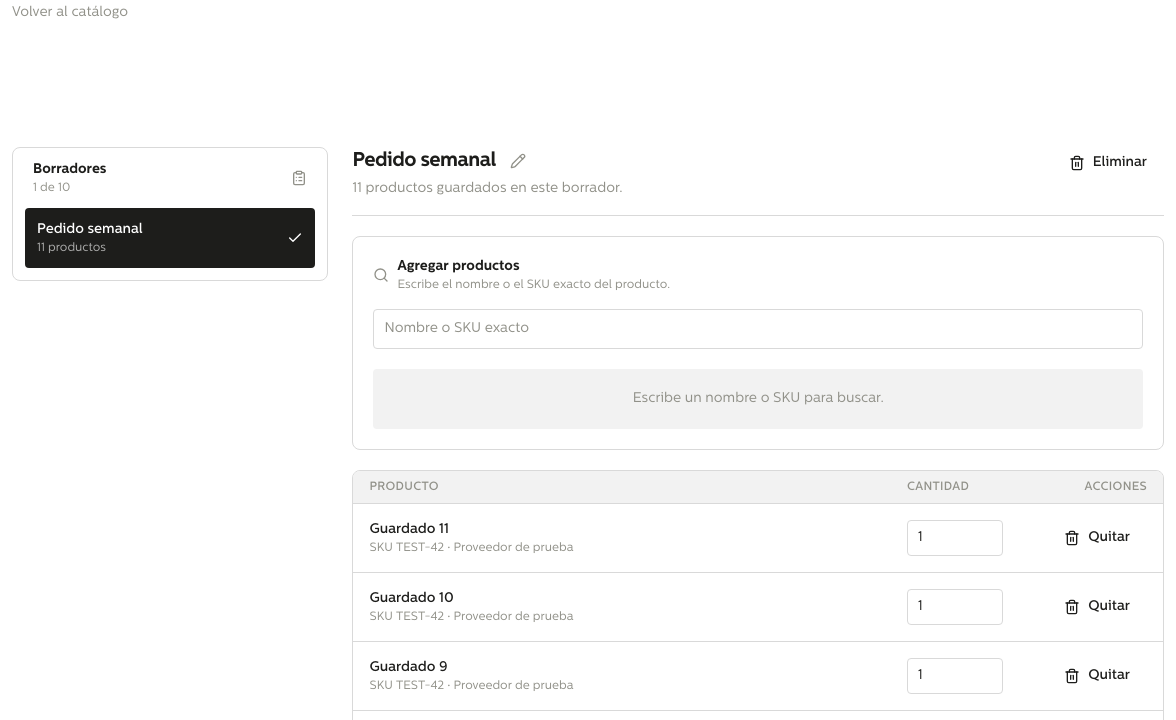
Test: editor de pedidos › conserva el texto si falla el guardado
Later steps or results of the test are not shown.
Type "001-A" into the field with placeholder "Nombre o SKU exacto".
click(758, 329); type("001-A")  # box 374,309 -> 1143,349
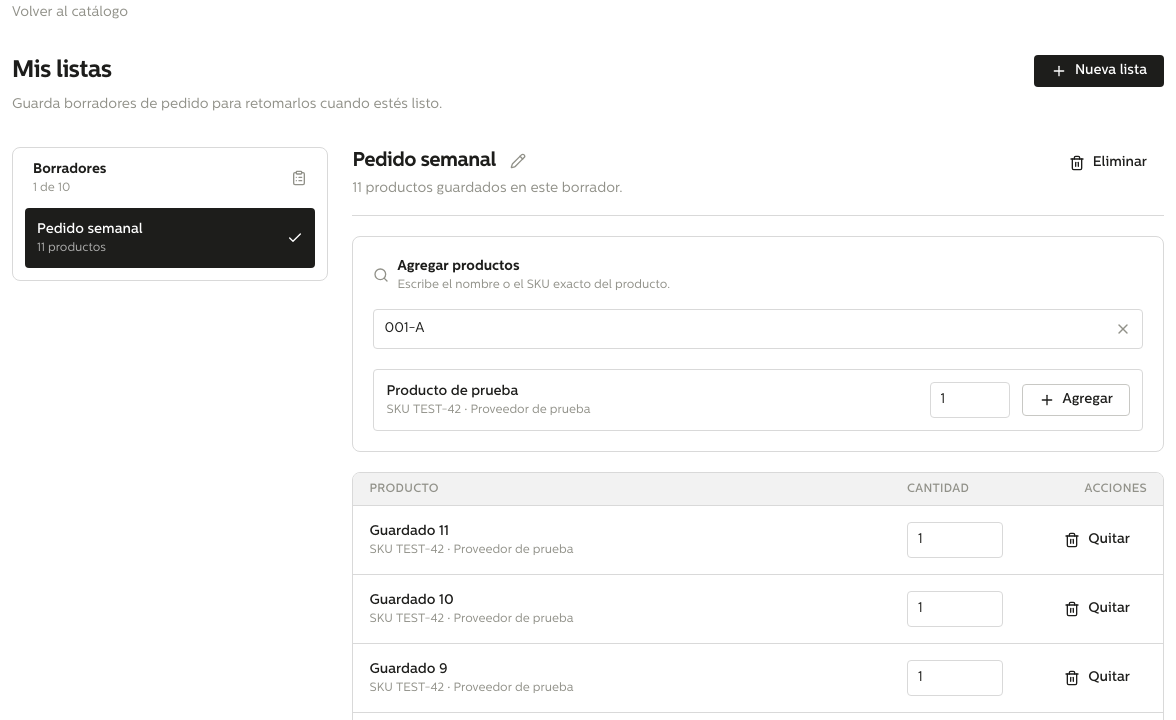
Check: the button "Agregar" is enabled, box 1022,384 -> 1130,416
